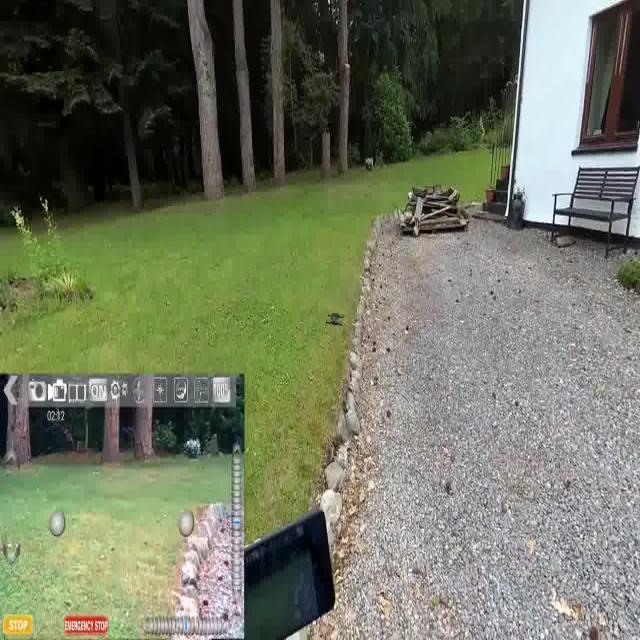drone: (326, 311, 345, 328)
